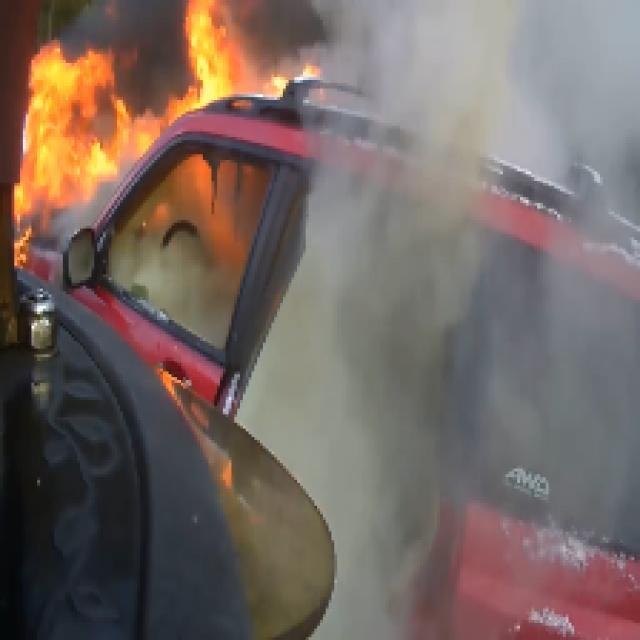Fire: (28, 59, 106, 210), (190, 4, 230, 96)
Smoke: (337, 0, 450, 583), (458, 7, 619, 185), (95, 7, 183, 44)
